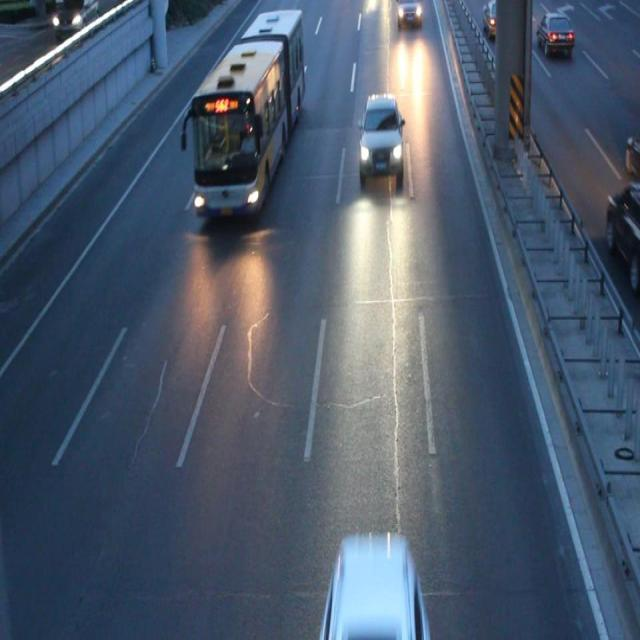car: (320, 535, 428, 640), (606, 176, 640, 293), (358, 96, 403, 175), (536, 11, 573, 49), (480, 1, 512, 36), (625, 129, 640, 177), (398, 1, 420, 26)
van: (192, 10, 303, 216)
